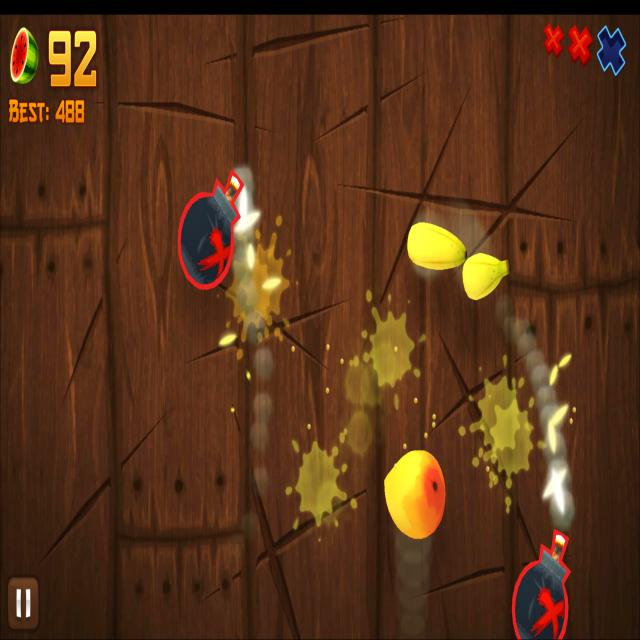bomb: (177, 170, 243, 289), (512, 531, 571, 640)
fruit: (384, 449, 446, 539)
